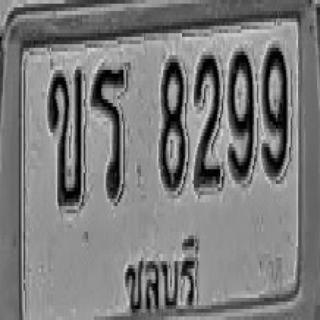A02: (48, 66, 83, 206)
A35: (91, 64, 129, 200)
N02: (194, 51, 222, 188)
N08: (159, 57, 186, 190)
N09: (261, 44, 288, 176), (228, 48, 254, 180)
P13: (120, 232, 207, 320)
